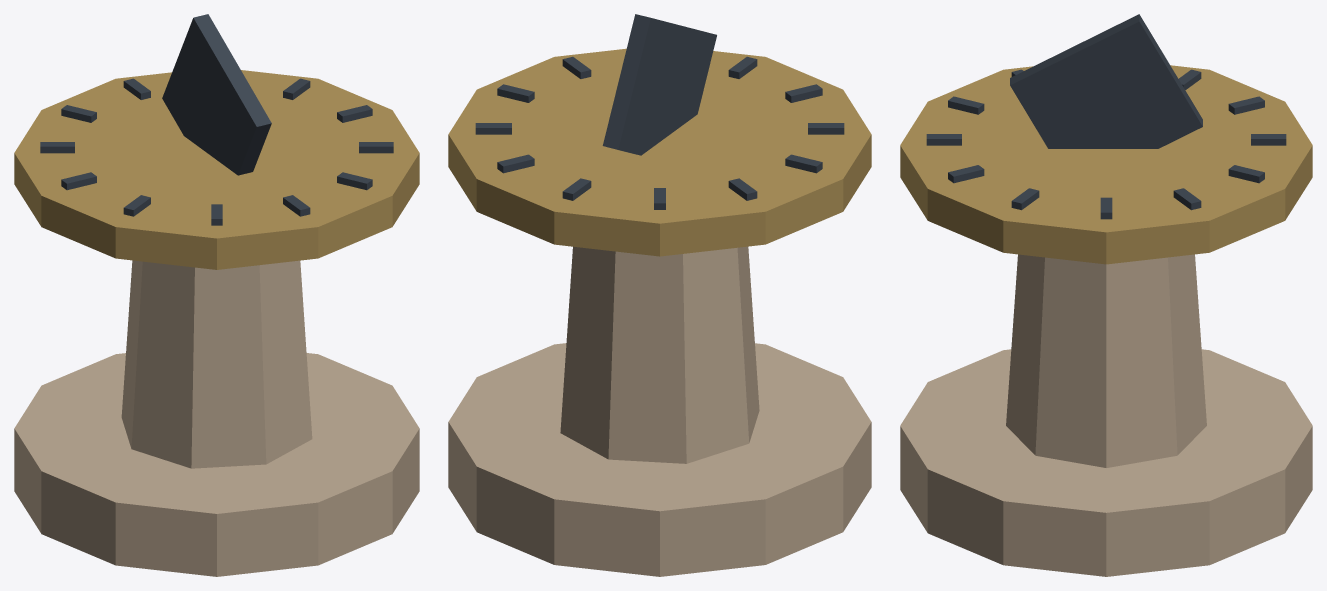
File: var_sundial.glb
3 views of the same model, side by side, from view 1: azimuth 30°, elevation 25°; view 2: azimuth 150°, elevation 25°; view 3: azimuth 270°, elevation 25° (orthographic). The views are drawn at different scales.
Visible parts, largest first — view 1: var_sundial; view 2: var_sundial; view 3: var_sundial.
Part boxes in pixels (x1,y1,x2,y2): var_sundial: [14, 14, 419, 576]; var_sundial: [448, 14, 871, 576]; var_sundial: [900, 14, 1312, 576].
Bounding box in the file's own units: 1.4 × 1.77 × 1.4.
